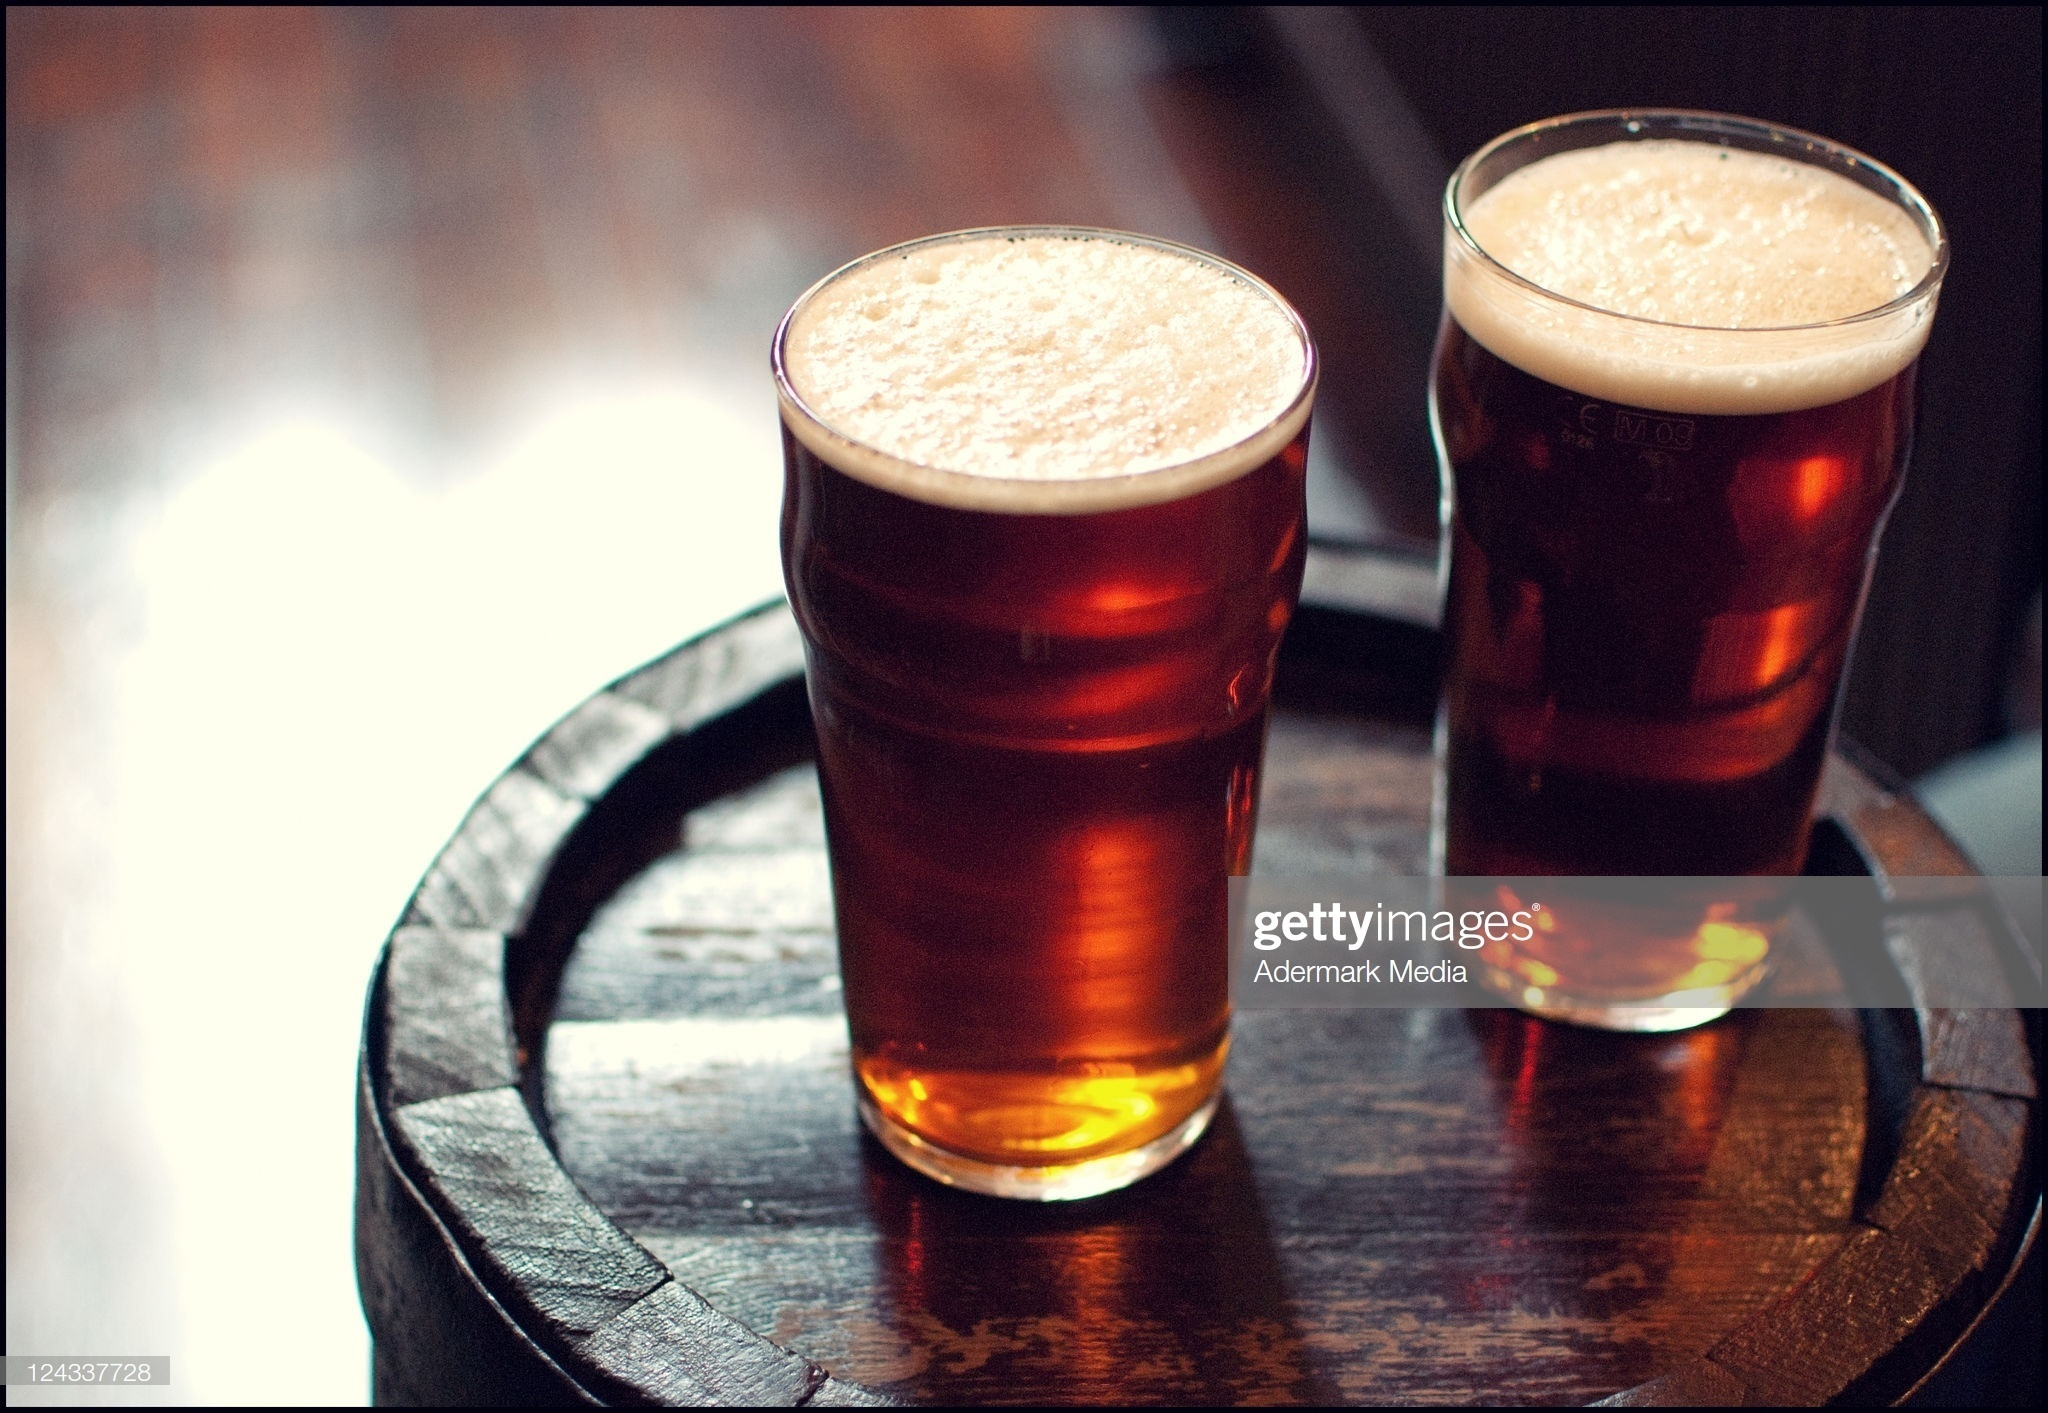whiskey: (767, 237, 1318, 1222), (1393, 115, 1956, 1005)
